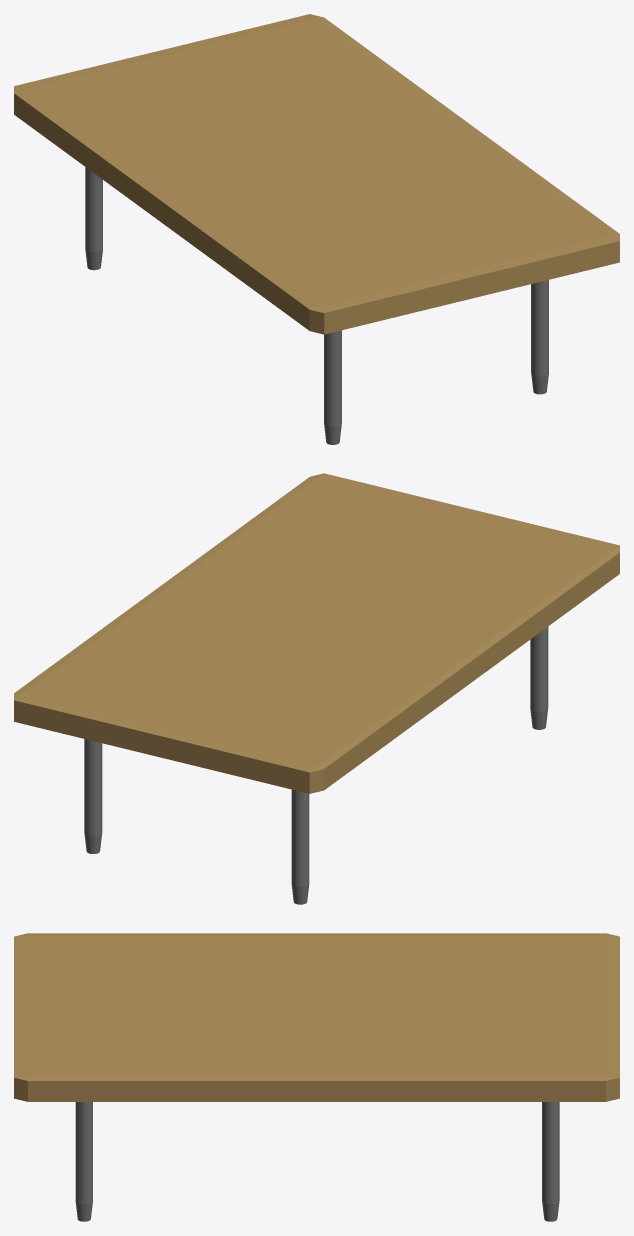
Rendered from schooltable.fbx.
The picture shows the model from 3 angles, top to bottom: view 1: azimuth 30°, elevation 25°; view 2: azimuth 150°, elevation 25°; view 3: azimuth 270°, elevation 25°; orthographic projection. The views are drawn at different scales.
Parts seen in each view (by area): view 1: Cube, Cylinder, Cylinder.002, Cylinder.003; view 2: Cube, Cylinder.003, Cylinder.001, Cylinder.002; view 3: Cube, Cylinder, Cylinder.001.
Boxes of the visible parts, x1,y1,x2,y2 form: Cube: (14, 14, 619, 334); Cylinder: (531, 280, 548, 394); Cylinder.002: (324, 330, 341, 444); Cylinder.003: (85, 167, 102, 270); Cube: (14, 473, 619, 793); Cylinder.003: (291, 789, 309, 904); Cylinder.001: (84, 739, 102, 853); Cylinder.002: (530, 627, 548, 729); Cube: (14, 933, 619, 1101); Cylinder: (75, 1102, 92, 1221); Cylinder.001: (542, 1102, 559, 1221).
Bounding box in the file's own units: 599 × 308 × 1038.
